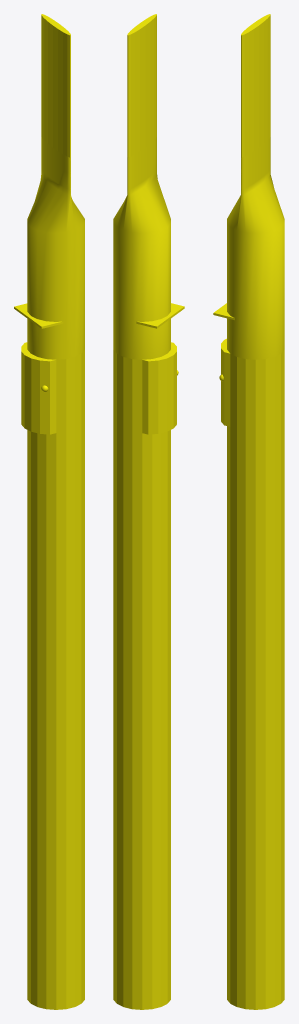
3 views of the same model, side by side, from view 1: azimuth 30°, elevation 25°; view 2: azimuth 150°, elevation 25°; view 3: azimuth 330°, elevation 25° (orthographic).
Visible parts, largest first — view 1: 580330.002; view 2: 580330.002; view 3: 580330.002.
Part boxes in pixels (x1=…): 580330.002: x1=14, y1=14, x2=84, y2=1009; 580330.002: x1=113, y1=14, x2=184, y2=1009; 580330.002: x1=213, y1=14, x2=284, y2=1009.
Bounding box in the file's own units: 0.1184 × 1.94 × 0.104.
Materials: 1 (1 with a texture image).
